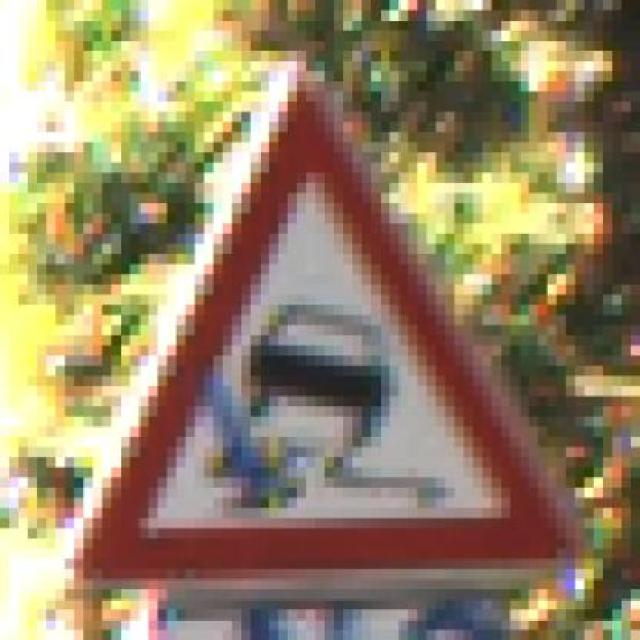Slippery Road Ahead: (74, 41, 594, 599)
